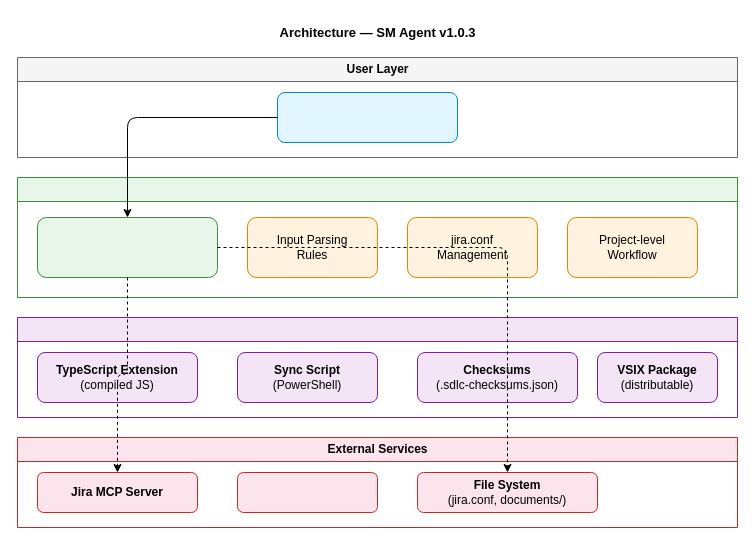
Some shapes in this 755 by 545 pixel diagram are drawn without their labels. Each missing label, with the box of its shape:
Agent Layer (Prompt-based): (16, 176, 738, 298)
Infrastructure Layer: (16, 316, 738, 418)
Kiro IDE (VS Code + Extension): (276, 92, 458, 142)
Knowledge Base: (236, 472, 378, 512)
SM Agent Prompt (scrum-master-agent.md): (36, 216, 218, 278)
